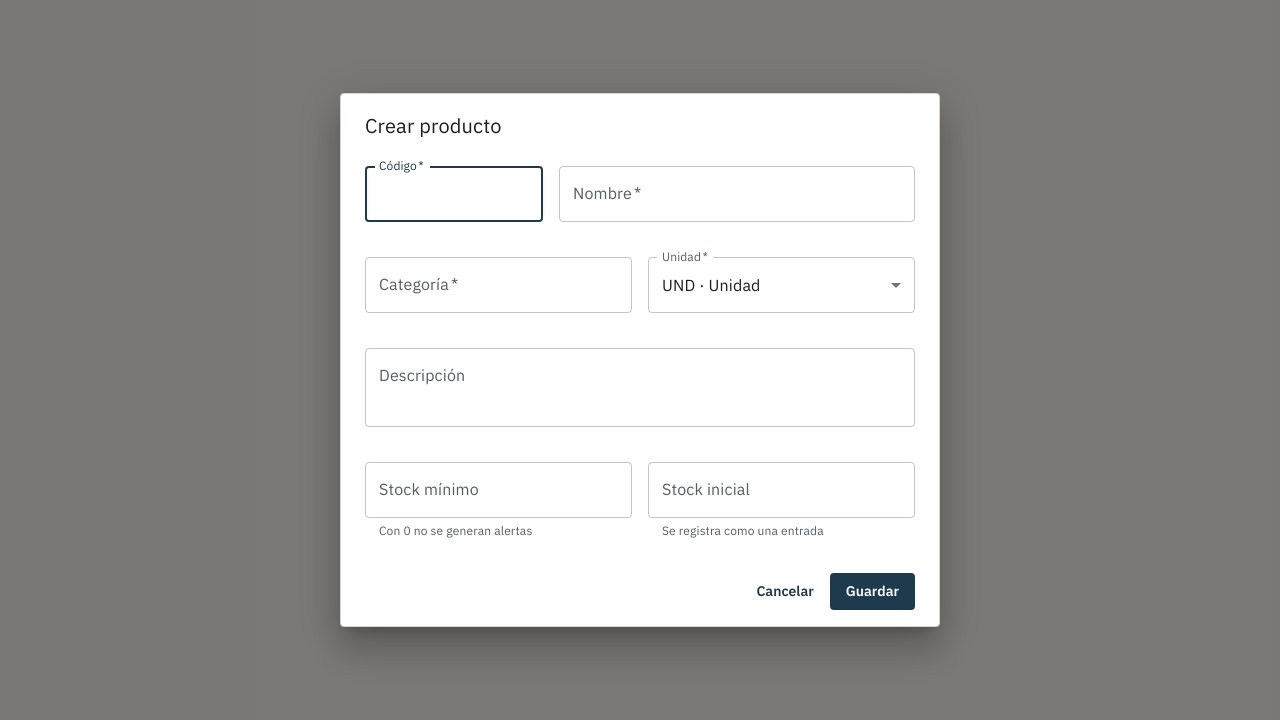
ProductoForm › muestra el error de la API (nombre duplicado) junto al formulario
Type "M-1" into the field labelled "Código *" at (454, 194), box left=365, top=166, right=543, bottom=222
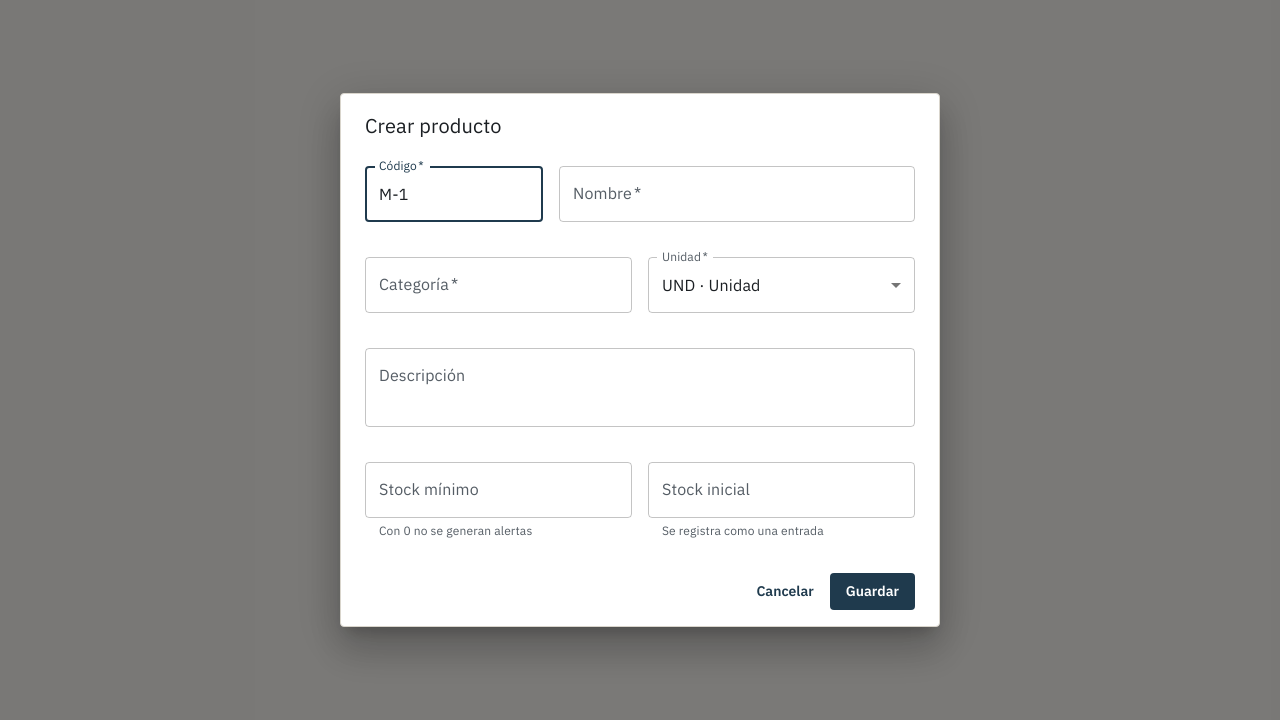
Type "Martillo" into the field labelled "Nombre *" at (737, 194), box left=559, top=166, right=915, bottom=222
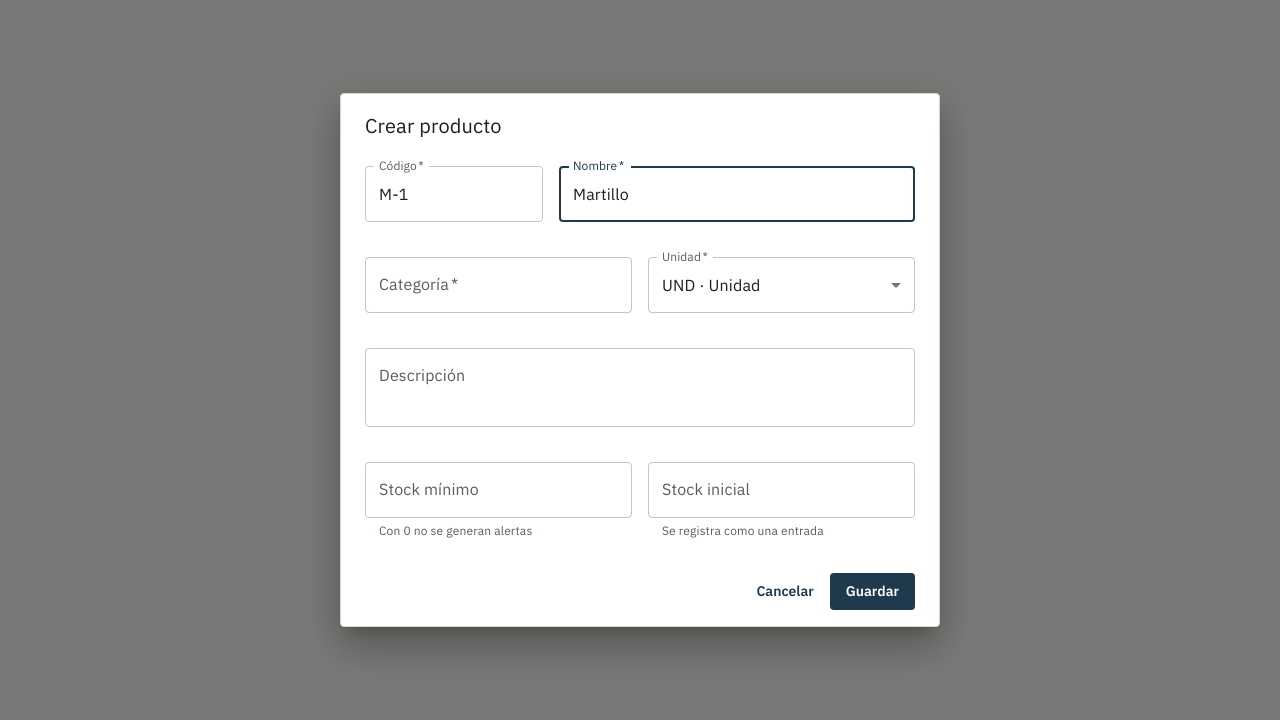
Type "Herramientas" into the field labelled "Categoría *" at (498, 285), box left=365, top=257, right=632, bottom=313
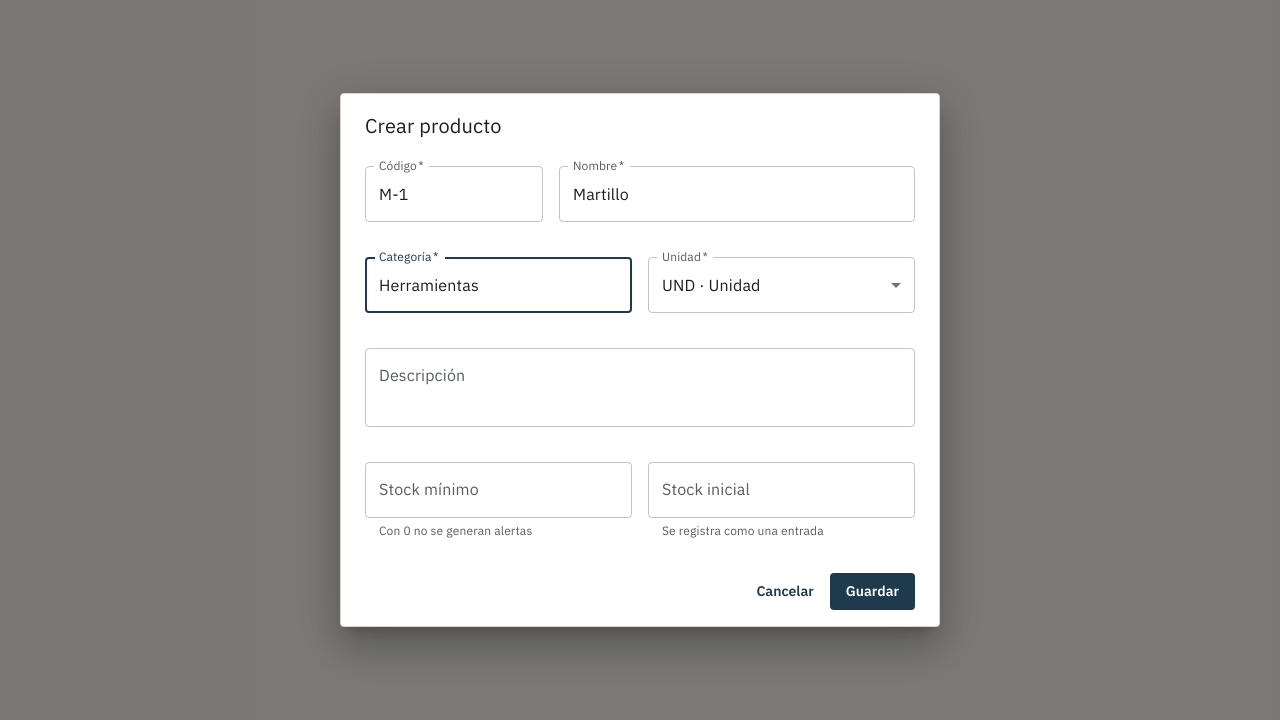
Click the button "Guardar" at (872, 591), box left=830, top=573, right=915, bottom=610
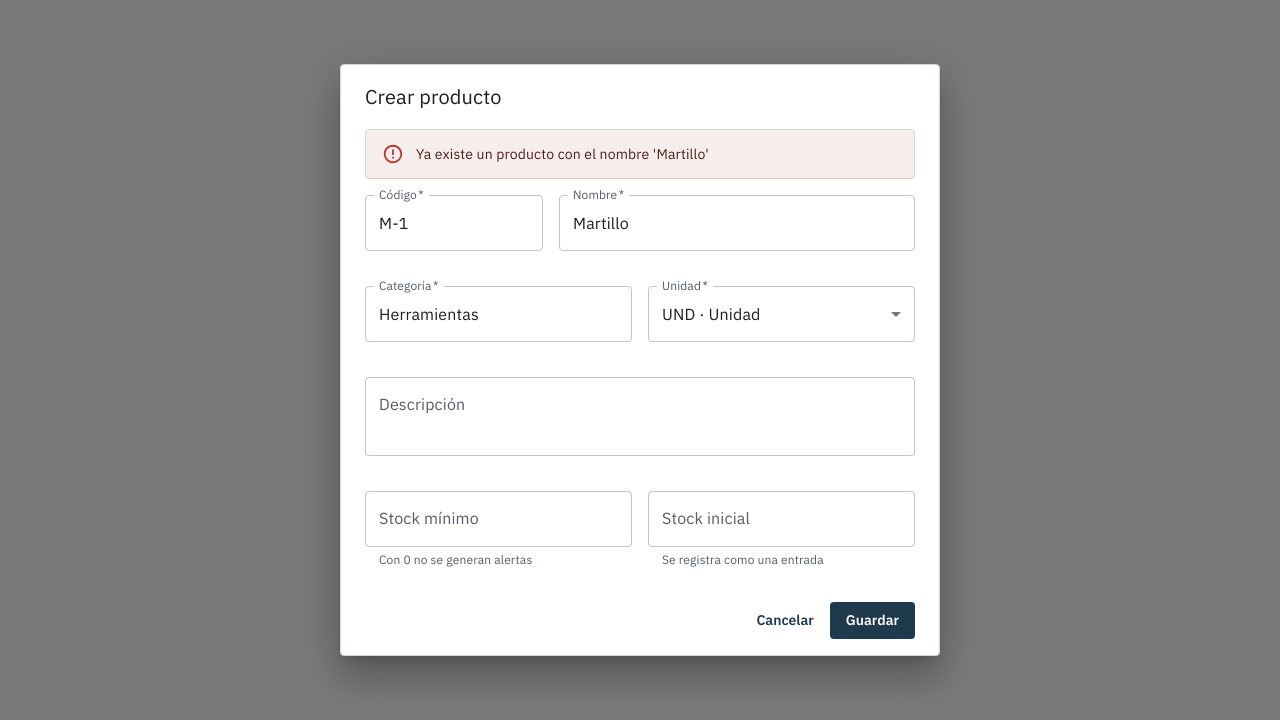
Expected: the text "Ya existe un producto con el nombre 'Martillo'" is shown, left=416, top=145, right=709, bottom=163
